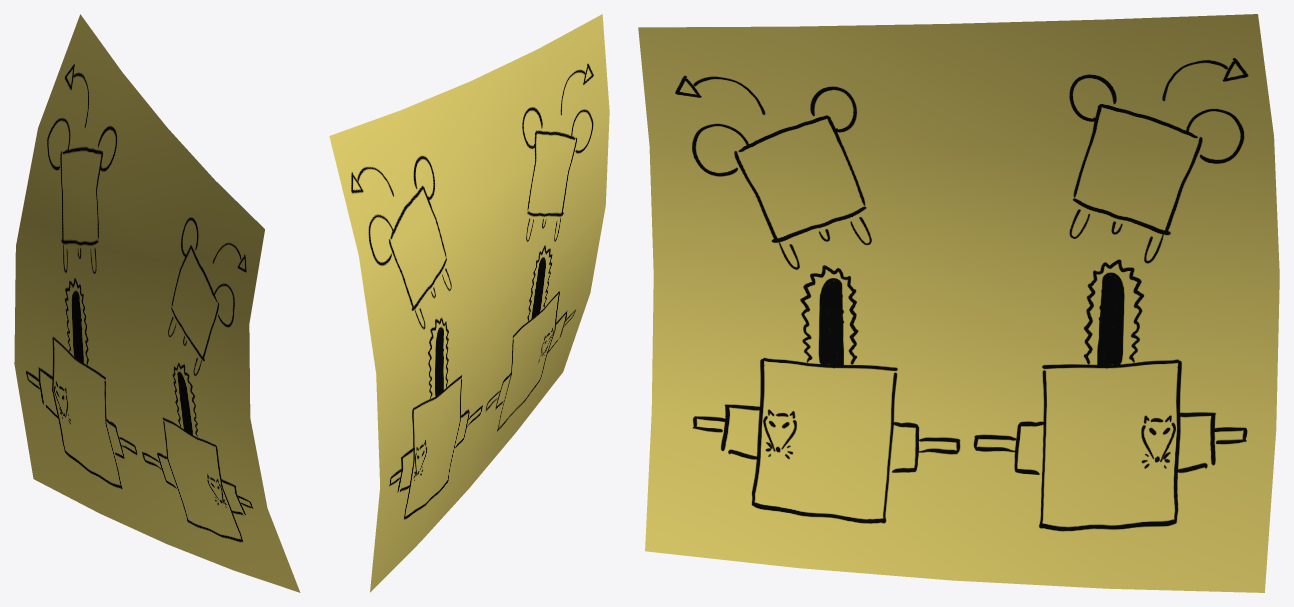
The model's file is PostItColourSteering.fbx.
The picture shows the model from 3 angles, left to right: view 1: azimuth 30°, elevation 25°; view 2: azimuth 150°, elevation 25°; view 3: azimuth 270°, elevation 25°; orthographic projection. The views are drawn at different scales.
Parts seen in each view (by area): view 1: Cube; view 2: Cube; view 3: Cube.
Boxes of the visible parts, x1,y1,x2,y2 form: Cube: (14,14,300,592); Cube: (329,14,609,592); Cube: (638,14,1279,592).
Bounding box in the file's own units: 147 × 1070 × 1024.
